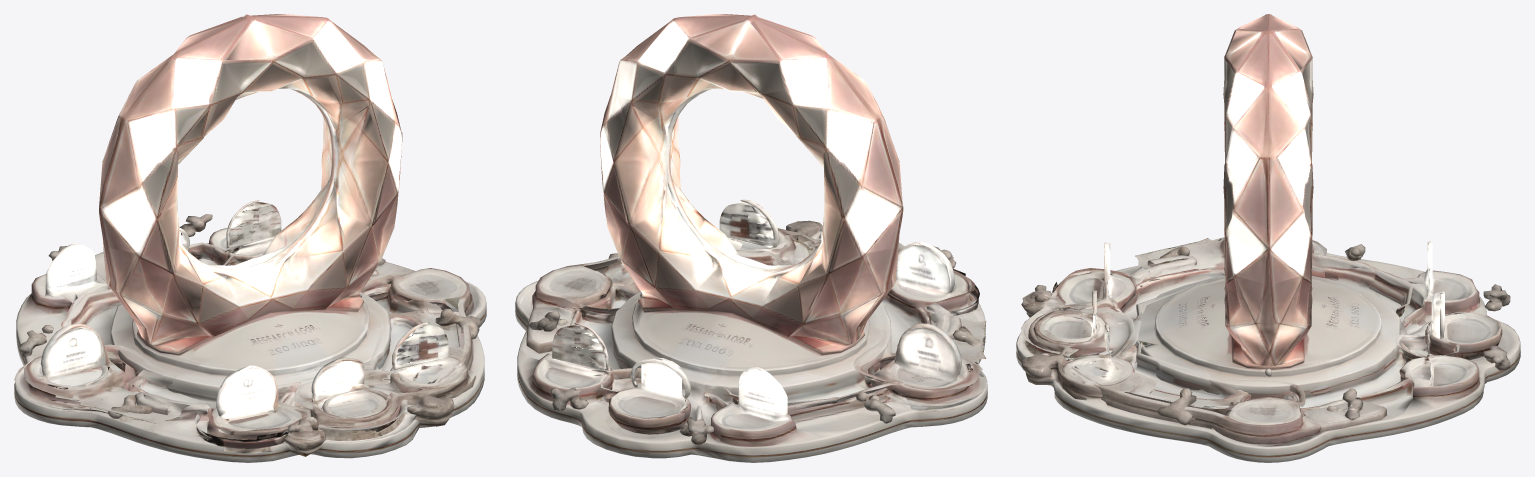
File: entry-pavilion-compressed.glb
3 renders of one model, left to right at view 1: azimuth 30°, elevation 25°; view 2: azimuth 150°, elevation 25°; view 3: azimuth 270°, elevation 25°, orthographic. The views are drawn at different scales.
Visible parts, largest first — view 1: Mesh_0.001; view 2: Mesh_0.001; view 3: Mesh_0.001.
Boxes of the visible parts, box(x1,y1,x2,y2) form: Mesh_0.001: box(14, 14, 486, 462); Mesh_0.001: box(515, 14, 987, 462); Mesh_0.001: box(1016, 14, 1520, 462).
Bounding box in the file's own units: 0.2096 × 0.15 × 0.2105.
Materials: 1 (1 with a texture image).
